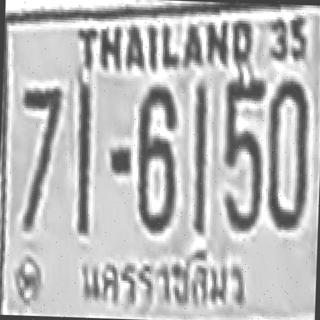N00: (264, 77, 310, 227), (220, 110, 263, 229)
N06: (134, 84, 178, 231)
N07: (18, 86, 59, 210), (20, 86, 60, 182), (20, 85, 60, 170)
P30: (74, 240, 256, 312)
